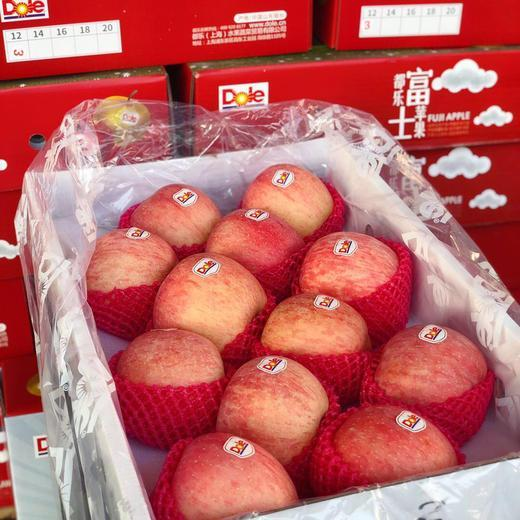apple: (304, 402, 458, 497), (151, 429, 298, 520), (214, 353, 328, 467), (370, 323, 489, 429), (150, 250, 267, 354), (110, 329, 227, 431), (291, 231, 412, 317), (83, 224, 172, 338), (254, 294, 375, 376), (237, 164, 339, 240), (203, 212, 303, 286), (125, 182, 223, 256)
